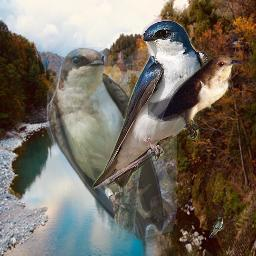Cuckoo: (148, 55, 245, 126)
Swallow: (47, 47, 177, 243), (92, 18, 213, 190), (209, 217, 224, 238)
